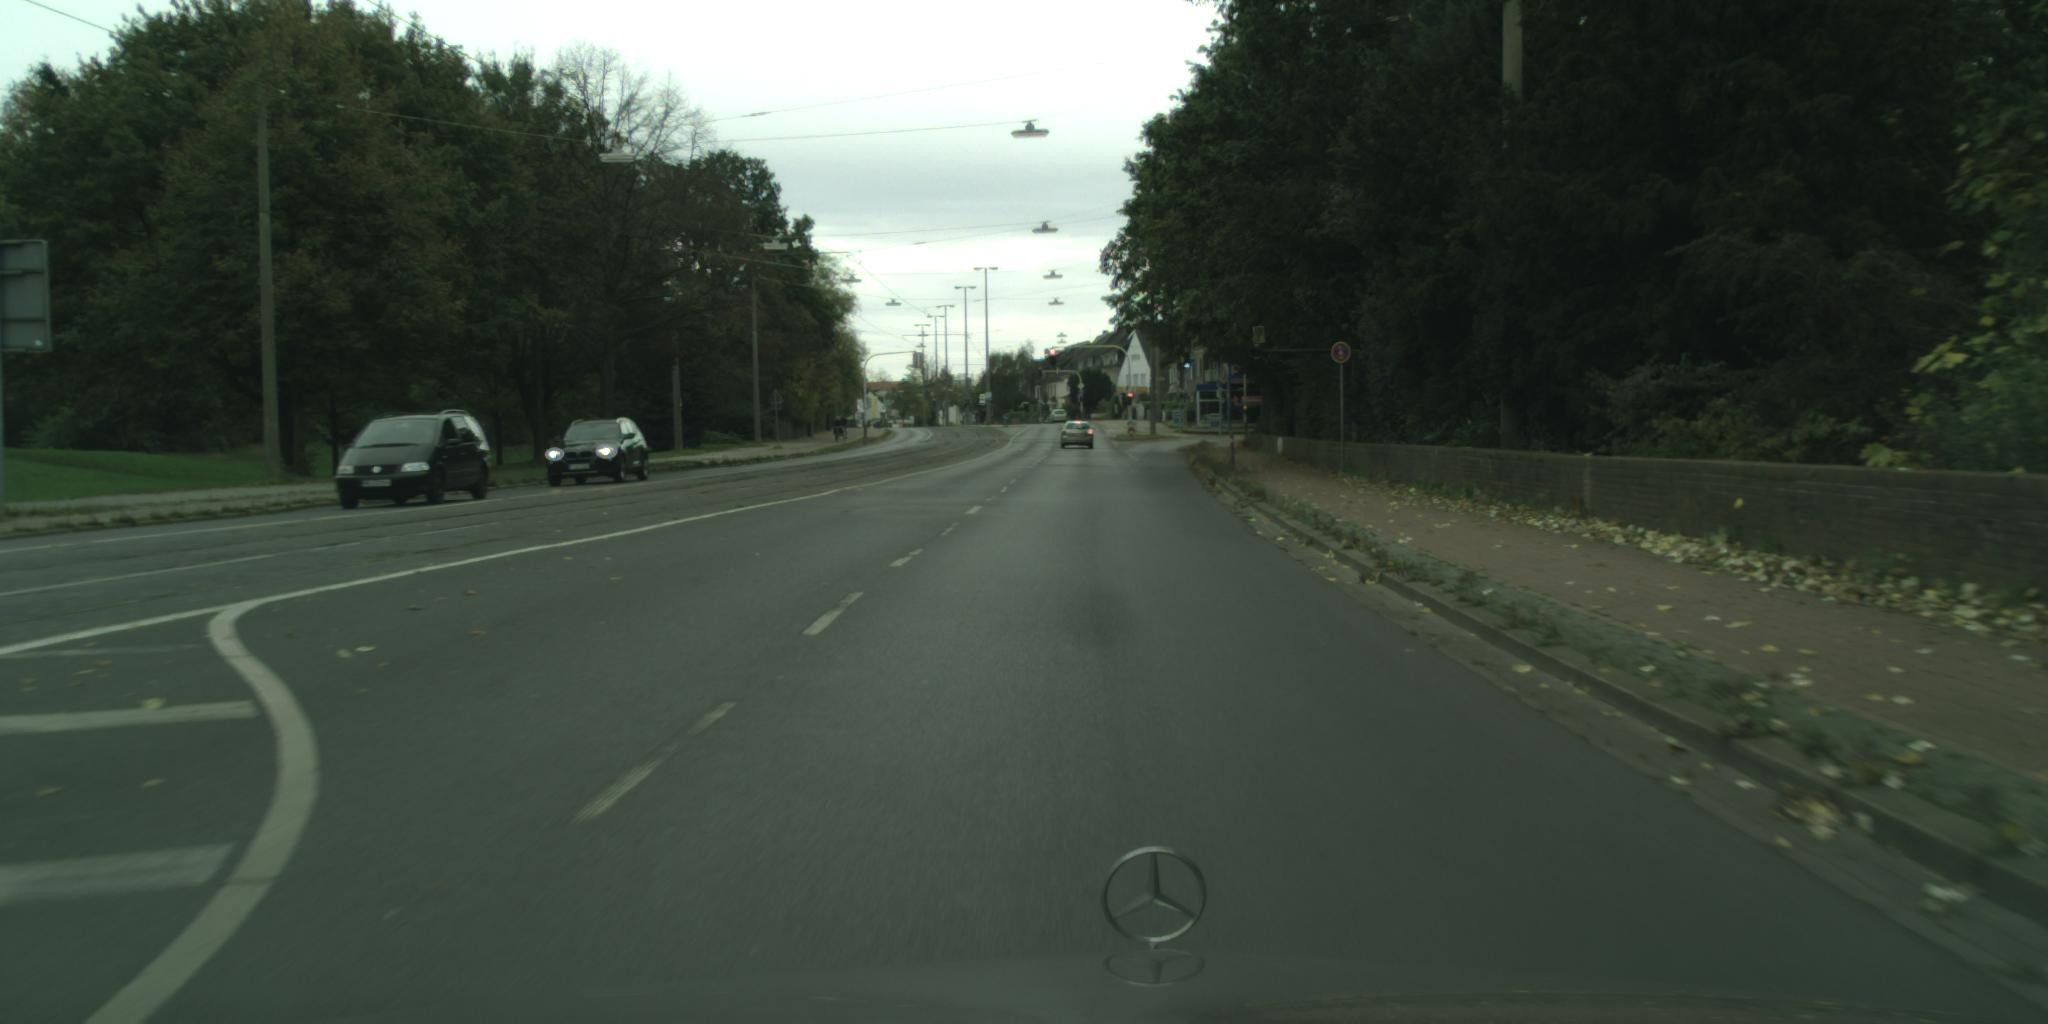car: (336, 410, 492, 512), (547, 417, 652, 488), (1061, 421, 1095, 451), (1046, 410, 1068, 424)
